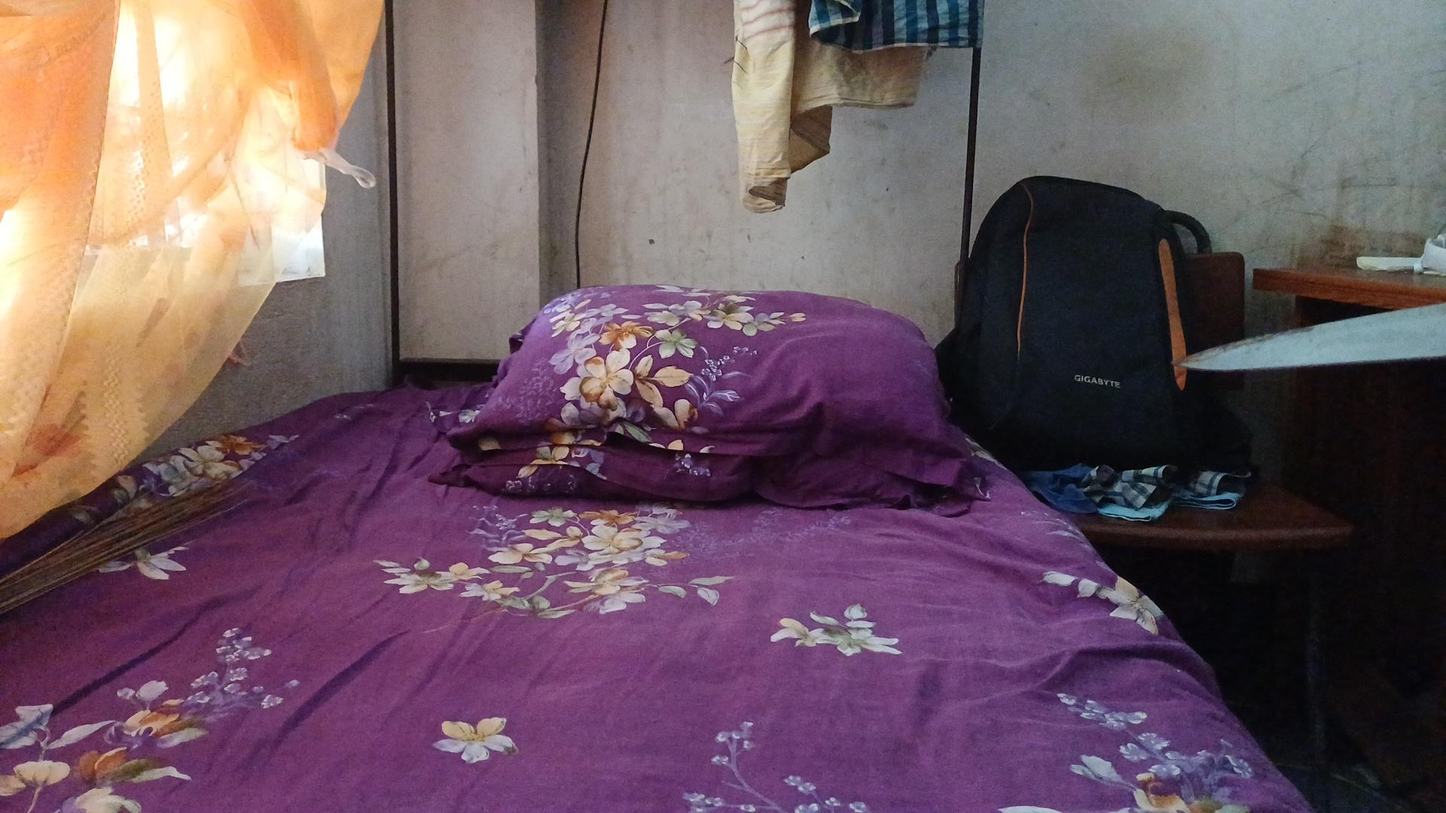Bag: (952, 179, 1287, 487)
Pillow: (458, 265, 962, 537)
